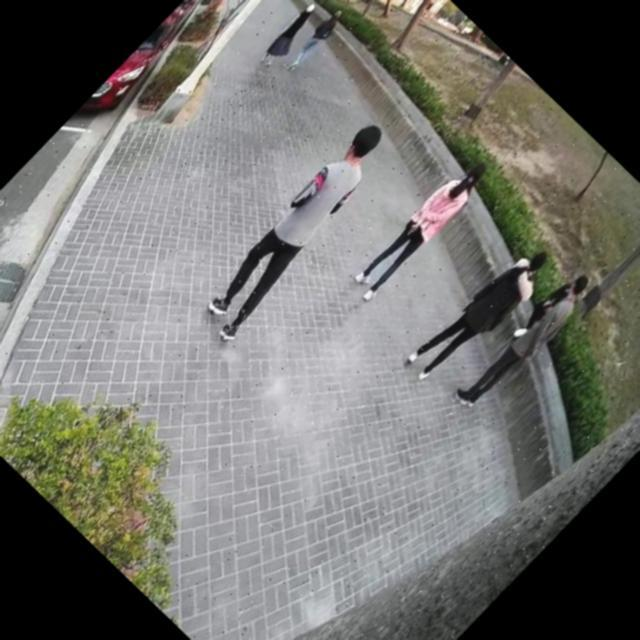person: (181, 112, 417, 354), (400, 230, 567, 400), (344, 148, 501, 308), (447, 262, 602, 421), (250, 0, 333, 78), (280, 3, 352, 78)
